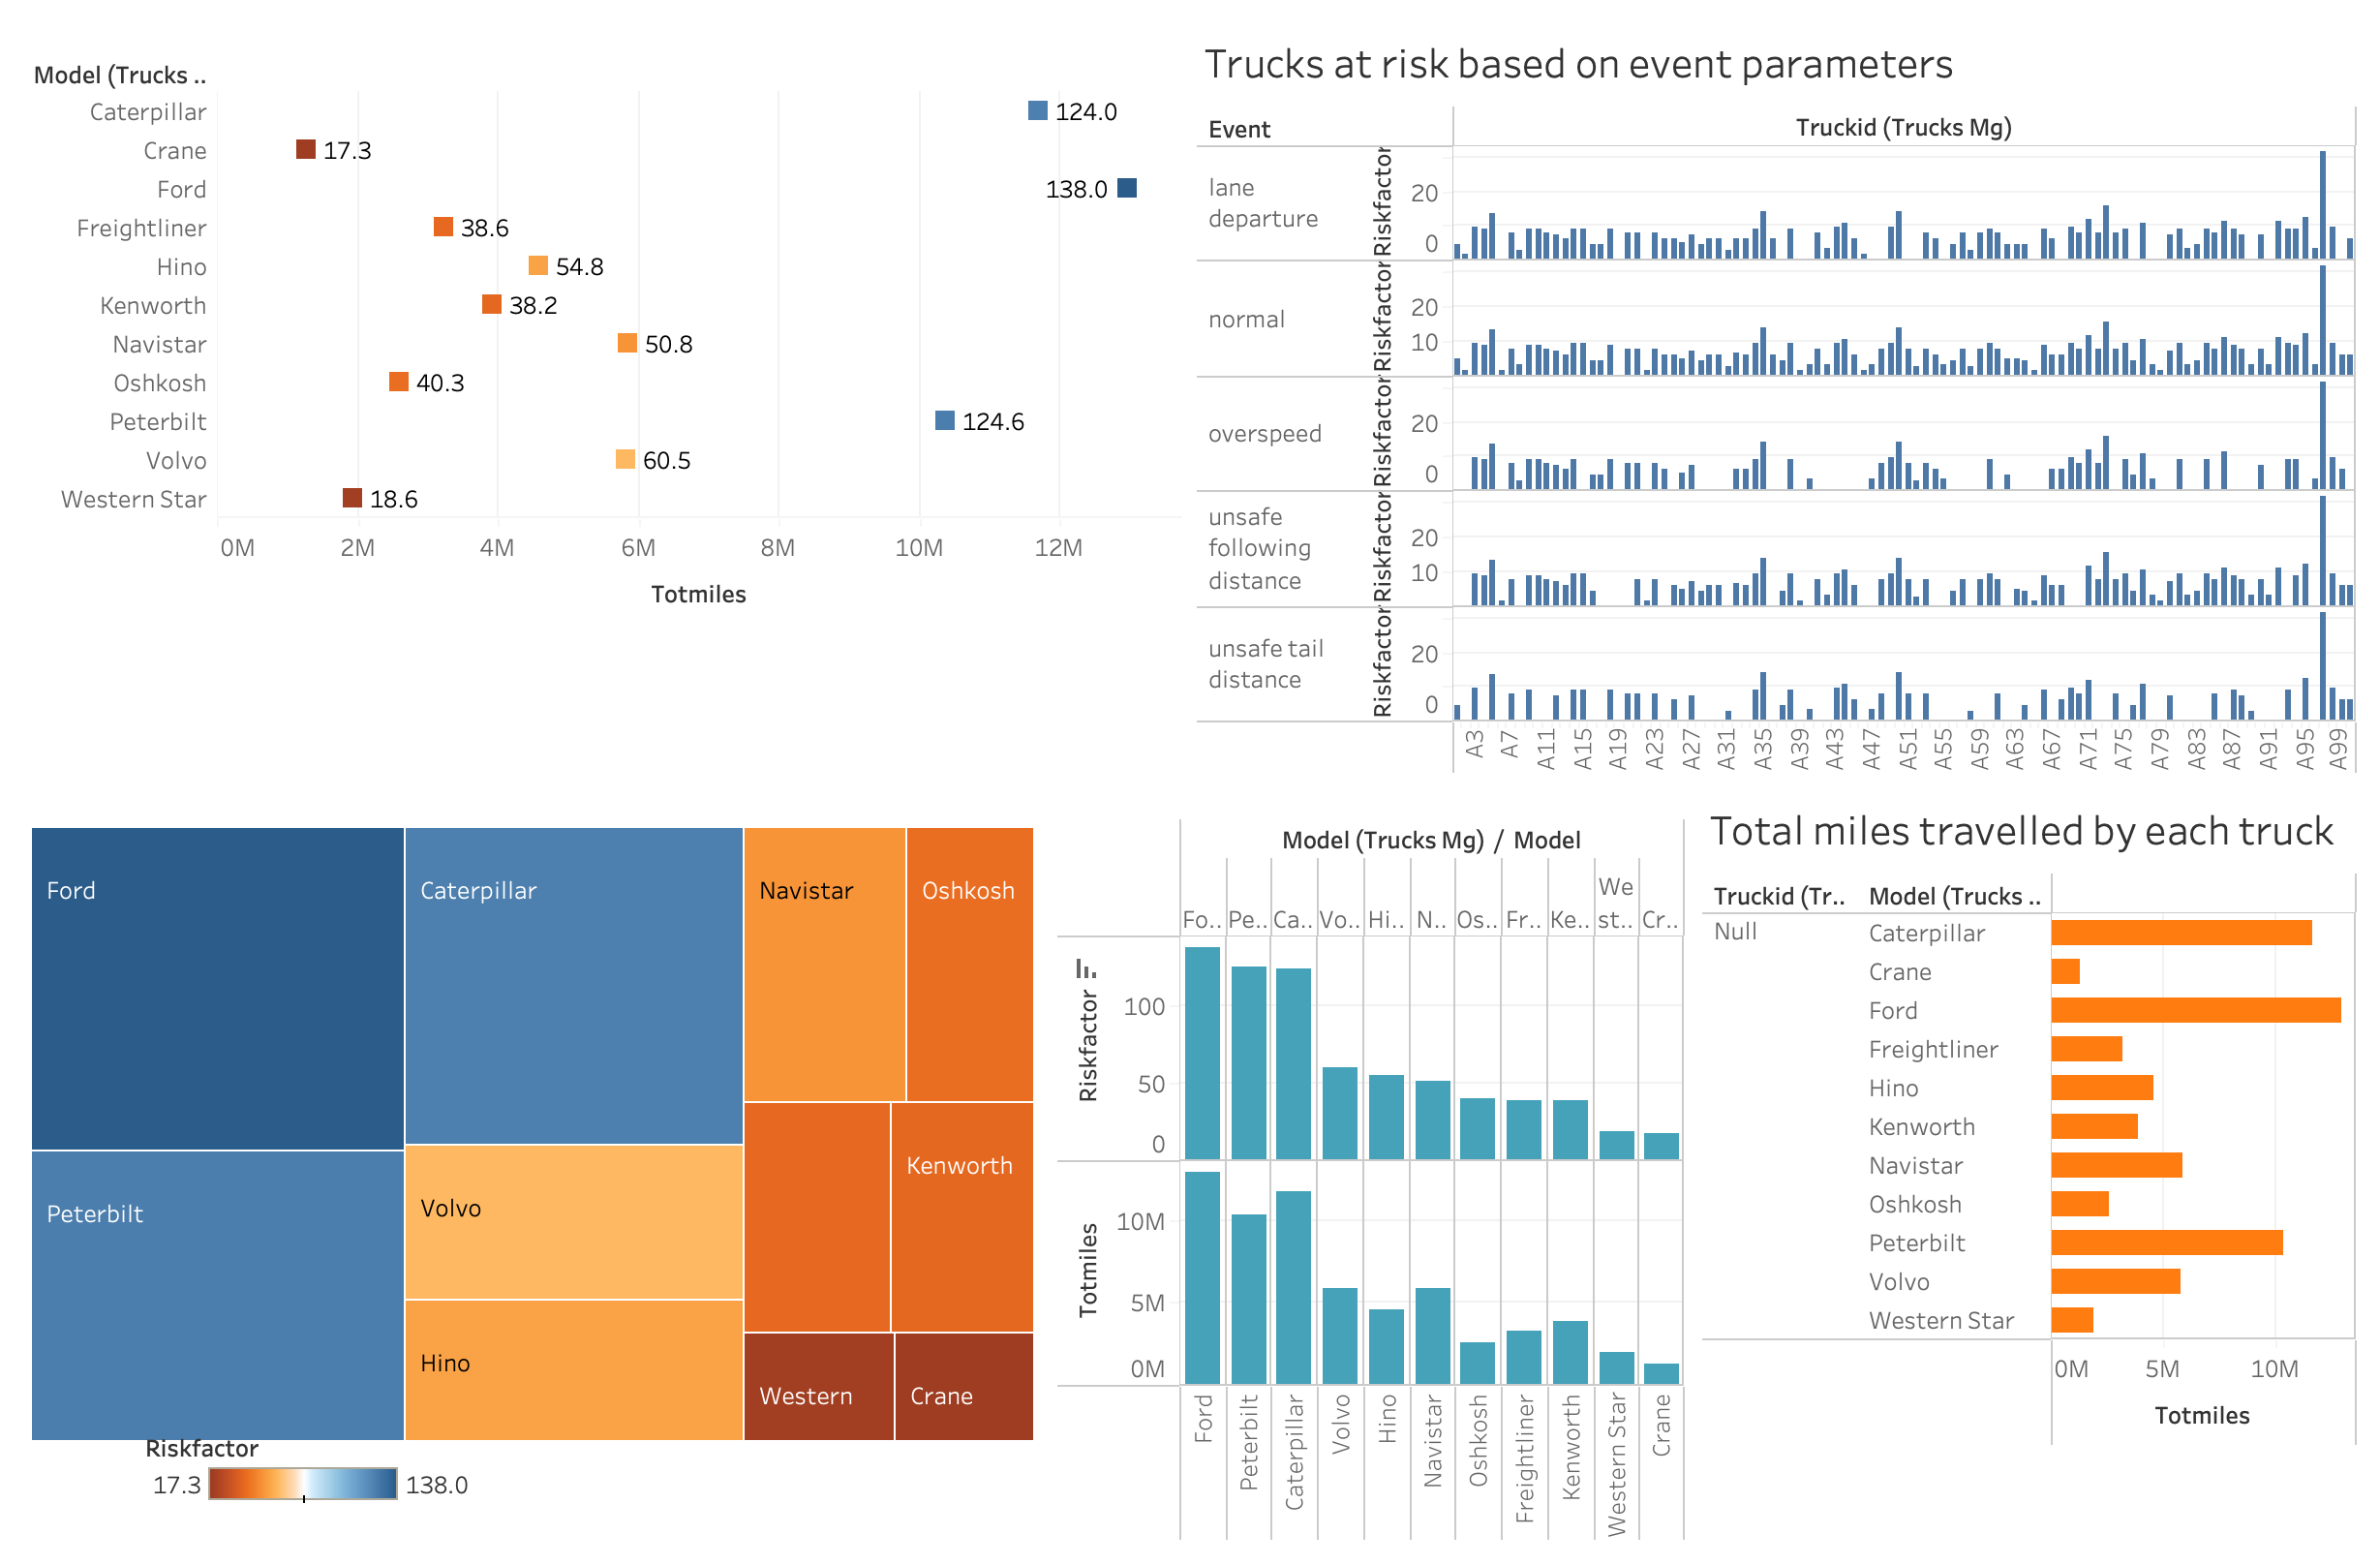

The dashboard page shown, as its layout file describes it:
{"tool":"tableau","page":{"name":"Dashboard 2","canvas":[1000,1000],"units":"permille","ordinal":1},"visuals":[{"type":"worksheet","title":"Trucks at risk based on model and miles travelled ","mark":"Square","rows":["model (trucks_mg)"],"cols":["totmiles"],"box":[4.8,9.4,495.1,490.6]},{"type":"worksheet","title":"Trucks at risk based on event parameters","mark":"Automatic","rows":["event","riskfactor"],"cols":["truckid (trucks_mg)"],"box":[500,9.4,495.2,490.6]},{"type":"worksheet","title":"Trucks at risk based on model","mark":"Automatic","box":[4.8,500,436,490.6]},{"type":"worksheet","title":"Trucks riskfactor based on model","mark":"Automatic","rows":["riskfactor","totmiles"],"cols":["model (trucks_mg)","model"],"box":[440.9,500,271.5,490.6]},{"type":"worksheet","title":"Total miles travelled by each truck","mark":"Automatic","rows":["truckid (truck_mileage)","model (trucks_mg)"],"cols":["totmiles"],"box":[712.4,500,282.8,490.6]}]}

Visuals, with their boxes on the dashboard's canvas, which has no fixed pixel size, in thousandths of its width and height (x1, y1, x2, y2). These are canvas units, not pixel positions in the 2380x1565 screenshot, which may show the page scaled, cropped or inside an application window:
"Trucks at risk based on model and miles travelled " worksheet (Square marks): [x1=5, y1=9, x2=500, y2=500]
"Trucks at risk based on event parameters" worksheet: [x1=500, y1=9, x2=995, y2=500]
"Trucks at risk based on model" worksheet: [x1=5, y1=500, x2=441, y2=991]
"Trucks riskfactor based on model" worksheet: [x1=441, y1=500, x2=712, y2=991]
"Total miles travelled by each truck" worksheet: [x1=712, y1=500, x2=995, y2=991]
